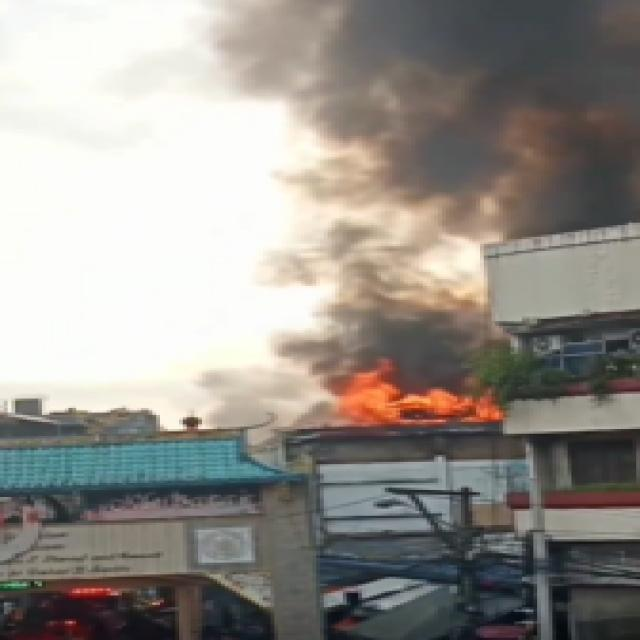Fire: (326, 368, 514, 431)
Smoke: (228, 0, 640, 244), (299, 256, 509, 405)
